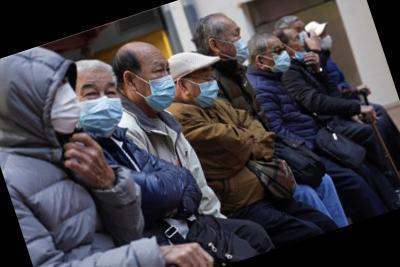mask_weared_incorrect: (286, 32, 310, 65)
with_mask: (69, 73, 132, 146), (38, 76, 89, 140), (133, 56, 184, 118), (186, 66, 225, 112), (220, 23, 254, 69), (261, 39, 296, 79), (293, 22, 313, 50), (317, 29, 337, 53)
